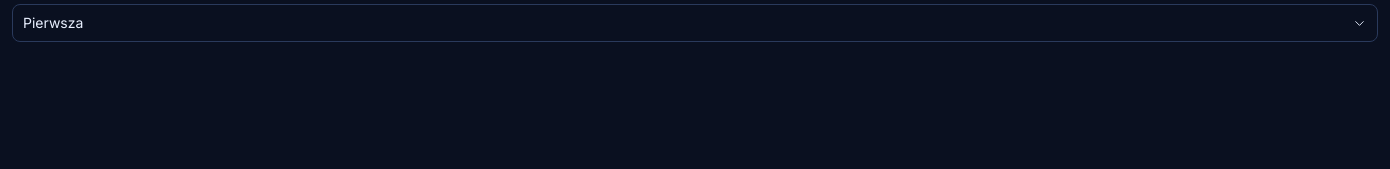
Test: Select › otwiera listę po kliknięciu
Step 1. Click the button with aria-label "Wybór" → (53, 22), box x1=12 y1=4 x2=1378 y2=42
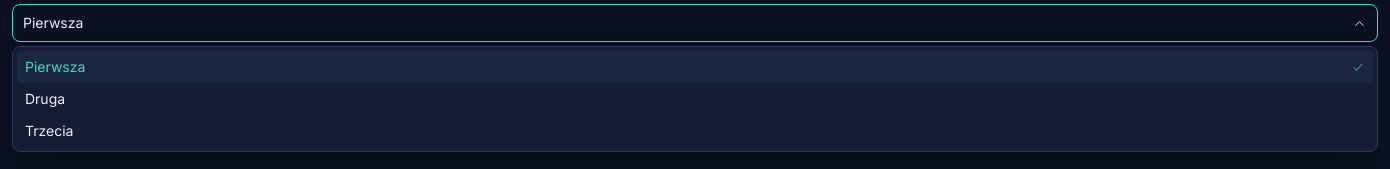
Expected: the list is shown
